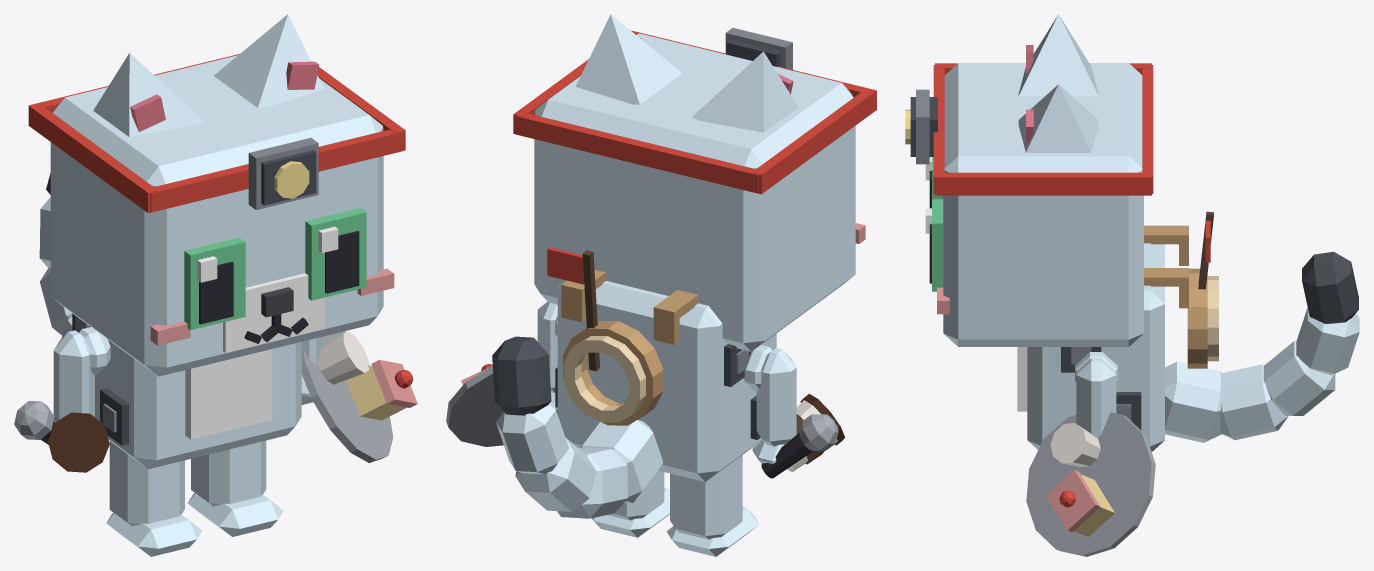
File: CatCafe_Cat_SnowLeopard_Work.glb
3 renders of one model, left to right at view 1: azimuth 30°, elevation 25°; view 2: azimuth 150°, elevation 25°; view 3: azimuth 270°, elevation 25°, orthographic. The views are drawn at different scales.
Visible parts, largest first — view 1: CatCafe_Cat_SnowLeopard_Work_Head, CatCafe_Cat_SnowLeopard_Work_Body, CatCafe_Cat_SnowLeopard_Work_Prop2, CatCafe_Cat_SnowLeopard_Work_Held_Waiter, CatCafe_Cat_SnowLeopard_Work_LegB2, CatCafe_Cat_SnowLeopard_Work_LegB1, CatCafe_Cat_SnowLeopard_Work_EarL, CatCafe_Cat_SnowLeopard_Work_Eye2, CatCafe_Cat_SnowLeopard_Work_Eye1, CatCafe_Cat_SnowLeopard_Work_EarR, CatCafe_Cat_SnowLeopard_Work_LegF2, CatCafe_Cat_SnowLeopard_Work_Held_Barista (+4 smaller); view 2: CatCafe_Cat_SnowLeopard_Work_Head, CatCafe_Cat_SnowLeopard_Work_Body, CatCafe_Cat_SnowLeopard_Work_Tail, CatCafe_Cat_SnowLeopard_Work_Prop2, CatCafe_Cat_SnowLeopard_Work_Prop, CatCafe_Cat_SnowLeopard_Work_LegB2, CatCafe_Cat_SnowLeopard_Work_EarL, CatCafe_Cat_SnowLeopard_Work_EarR, CatCafe_Cat_SnowLeopard_Work_LegF2, CatCafe_Cat_SnowLeopard_Work_Held_Waiter, CatCafe_Cat_SnowLeopard_Work_LegB1, CatCafe_Cat_SnowLeopard_Work_Held_Entertainer (+2 smaller); view 3: CatCafe_Cat_SnowLeopard_Work_Head, CatCafe_Cat_SnowLeopard_Work_Tail, CatCafe_Cat_SnowLeopard_Work_Held_Waiter, CatCafe_Cat_SnowLeopard_Work_Body, CatCafe_Cat_SnowLeopard_Work_Prop2, CatCafe_Cat_SnowLeopard_Work_Prop, CatCafe_Cat_SnowLeopard_Work_EarR, CatCafe_Cat_SnowLeopard_Work_EarL, CatCafe_Cat_SnowLeopard_Work_LegF1, CatCafe_Cat_SnowLeopard_Work_Eye1.
Part boxes in pixels (x1,y1,x2,y2): CatCafe_Cat_SnowLeopard_Work_Head: [50, 55, 394, 376]; CatCafe_Cat_SnowLeopard_Work_Body: [72, 313, 301, 468]; CatCafe_Cat_SnowLeopard_Work_Prop2: [28, 54, 405, 212]; CatCafe_Cat_SnowLeopard_Work_Held_Waiter: [301, 331, 417, 463]; CatCafe_Cat_SnowLeopard_Work_LegB2: [106, 441, 202, 556]; CatCafe_Cat_SnowLeopard_Work_LegB1: [187, 440, 283, 536]; CatCafe_Cat_SnowLeopard_Work_EarL: [214, 14, 324, 107]; CatCafe_Cat_SnowLeopard_Work_Eye2: [184, 237, 245, 330]; CatCafe_Cat_SnowLeopard_Work_Eye1: [305, 208, 366, 300]; CatCafe_Cat_SnowLeopard_Work_EarR: [93, 53, 203, 136]; CatCafe_Cat_SnowLeopard_Work_LegF2: [53, 330, 94, 421]; CatCafe_Cat_SnowLeopard_Work_Held_Barista: [48, 412, 109, 472]; CatCafe_Cat_SnowLeopard_Work_Head: [534, 33, 865, 351]; CatCafe_Cat_SnowLeopard_Work_Body: [555, 280, 776, 481]; CatCafe_Cat_SnowLeopard_Work_Tail: [492, 336, 662, 518]; CatCafe_Cat_SnowLeopard_Work_Prop2: [513, 28, 876, 194]; CatCafe_Cat_SnowLeopard_Work_Prop: [547, 247, 698, 425]; CatCafe_Cat_SnowLeopard_Work_LegB2: [666, 455, 759, 556]; CatCafe_Cat_SnowLeopard_Work_EarL: [575, 14, 681, 104]; CatCafe_Cat_SnowLeopard_Work_EarR: [692, 51, 798, 132]; CatCafe_Cat_SnowLeopard_Work_LegF2: [752, 348, 796, 463]; CatCafe_Cat_SnowLeopard_Work_Held_Waiter: [446, 335, 537, 446]; CatCafe_Cat_SnowLeopard_Work_LegB1: [592, 470, 669, 537]; CatCafe_Cat_SnowLeopard_Work_Held_Entertainer: [761, 414, 838, 478]; CatCafe_Cat_SnowLeopard_Work_Head: [937, 63, 1143, 346]; CatCafe_Cat_SnowLeopard_Work_Tail: [1165, 251, 1359, 442]; CatCafe_Cat_SnowLeopard_Work_Held_Waiter: [1026, 412, 1155, 556]; CatCafe_Cat_SnowLeopard_Work_Body: [1017, 243, 1164, 451]; CatCafe_Cat_SnowLeopard_Work_Prop2: [910, 63, 1153, 195]; CatCafe_Cat_SnowLeopard_Work_Prop: [1144, 211, 1218, 368]; CatCafe_Cat_SnowLeopard_Work_EarR: [1018, 14, 1098, 96]; CatCafe_Cat_SnowLeopard_Work_EarL: [1018, 84, 1098, 152]; CatCafe_Cat_SnowLeopard_Work_LegF1: [1076, 358, 1116, 437]; CatCafe_Cat_SnowLeopard_Work_Eye1: [925, 199, 943, 291].
Size of the model in its own units: 1.53 by 1.93 by 1.72.
Materials: 1 (1 with a texture image).
